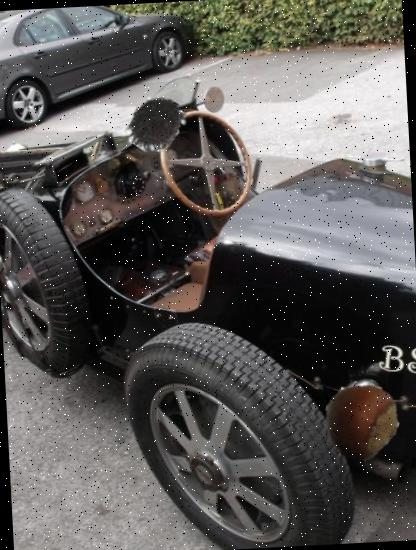Nut: (322, 381, 401, 460)
Rambutan: (126, 93, 188, 155)
